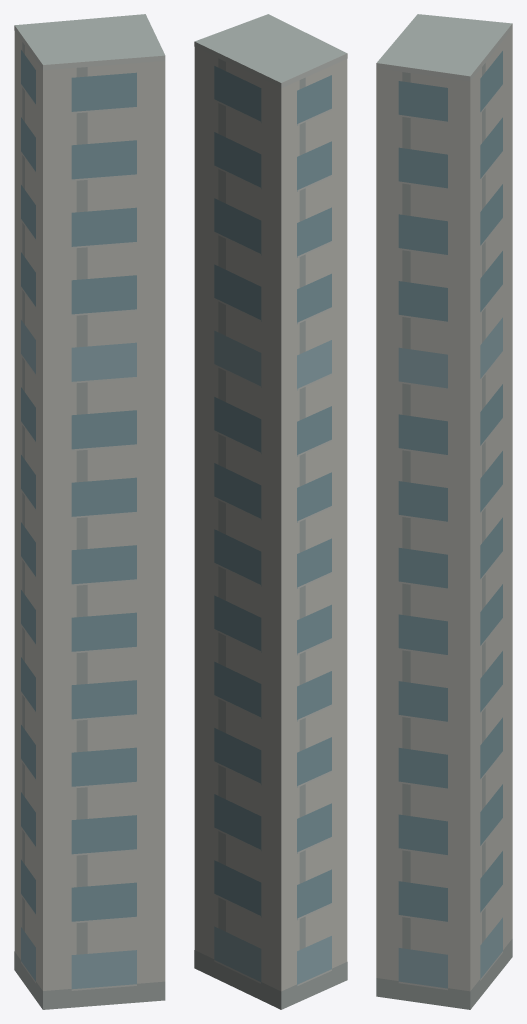
File: survey-upis-32528092.glb
The picture shows the model from 3 angles, left to right: view 1: azimuth 30°, elevation 25°; view 2: azimuth 150°, elevation 25°; view 3: azimuth 270°, elevation 25°; orthographic projection.
Parts seen in each view (by area): view 1: survey-upis-32528092.tmp; view 2: survey-upis-32528092.tmp; view 3: survey-upis-32528092.tmp.
Boxes of the visible parts, <box> form: survey-upis-32528092.tmp: <box>14,14,165,1009</box>; survey-upis-32528092.tmp: <box>194,14,347,1009</box>; survey-upis-32528092.tmp: <box>376,14,512,1009</box>.
Bounding box in the file's own units: 6.13 × 42.7 × 5.65.
